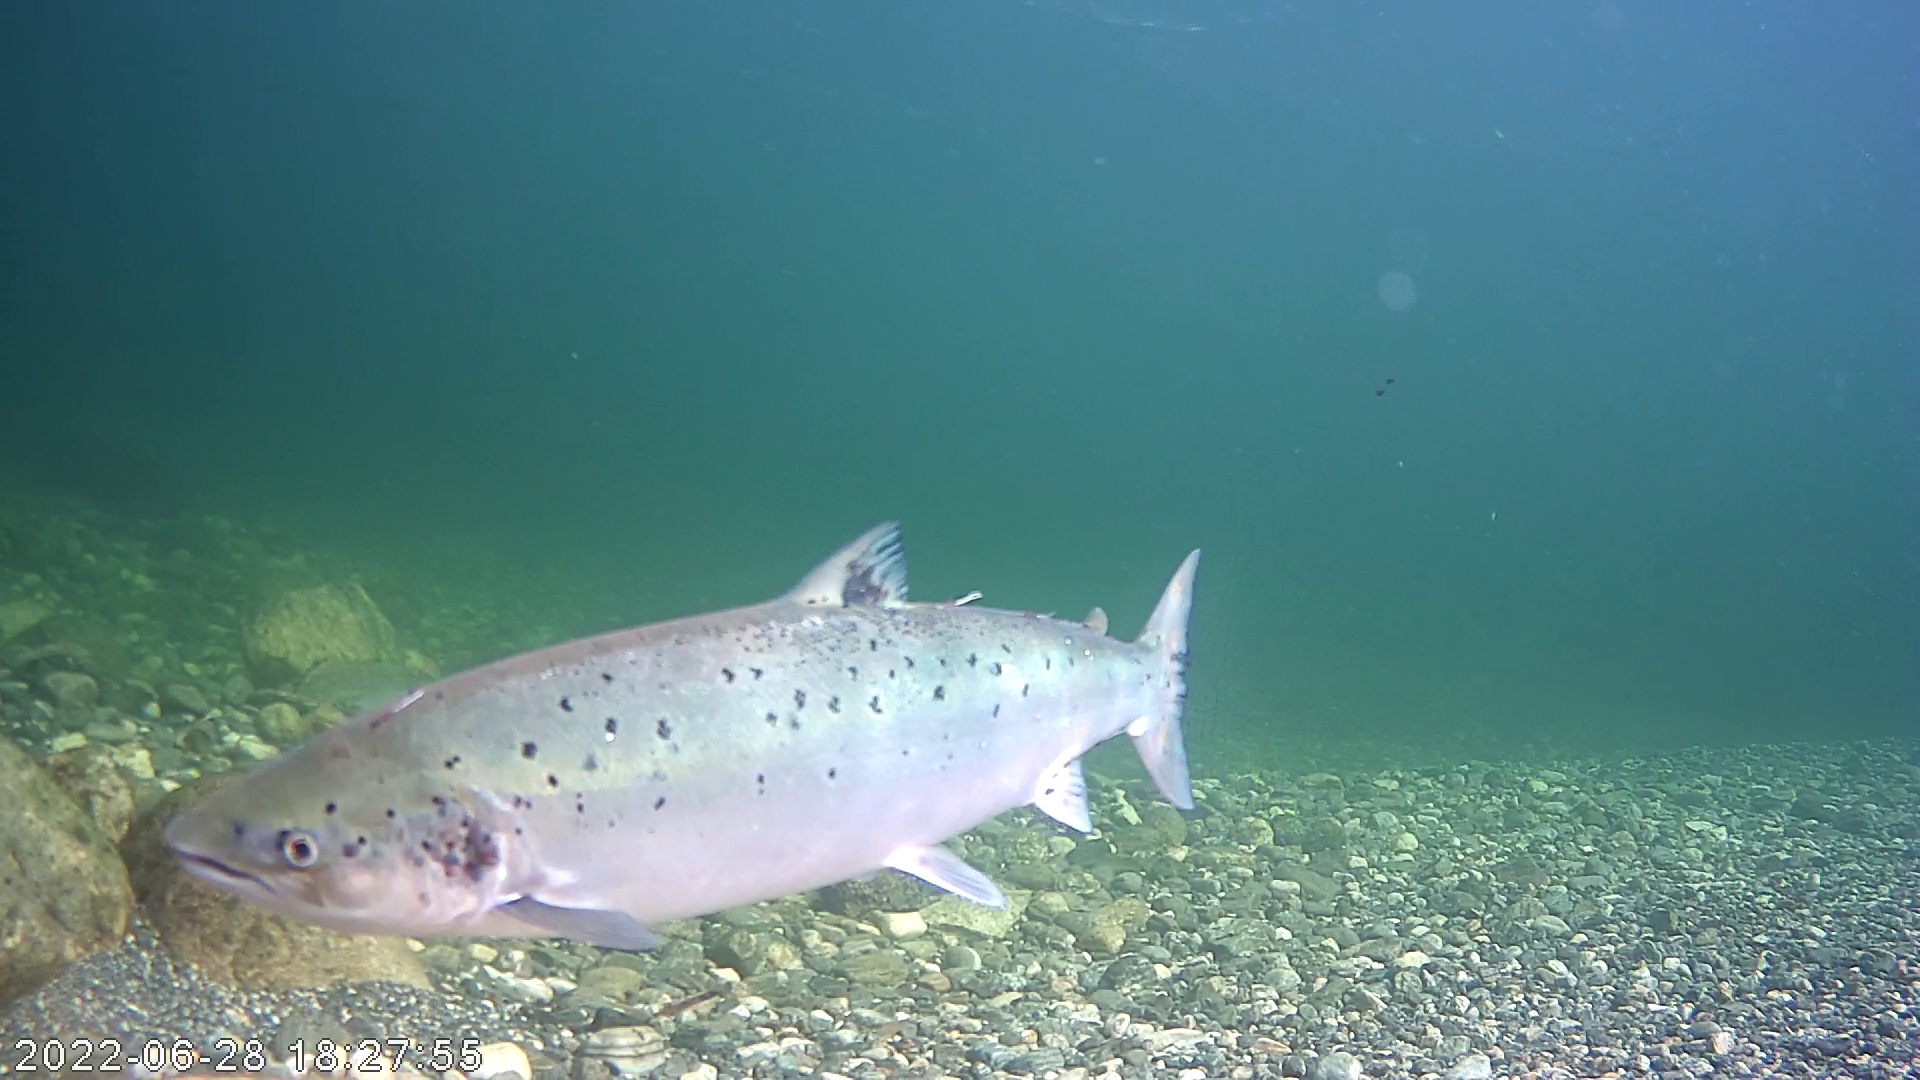salmon: (200, 469, 1222, 939)
